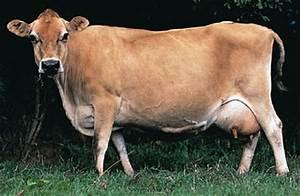cow: (6, 7, 290, 178)
